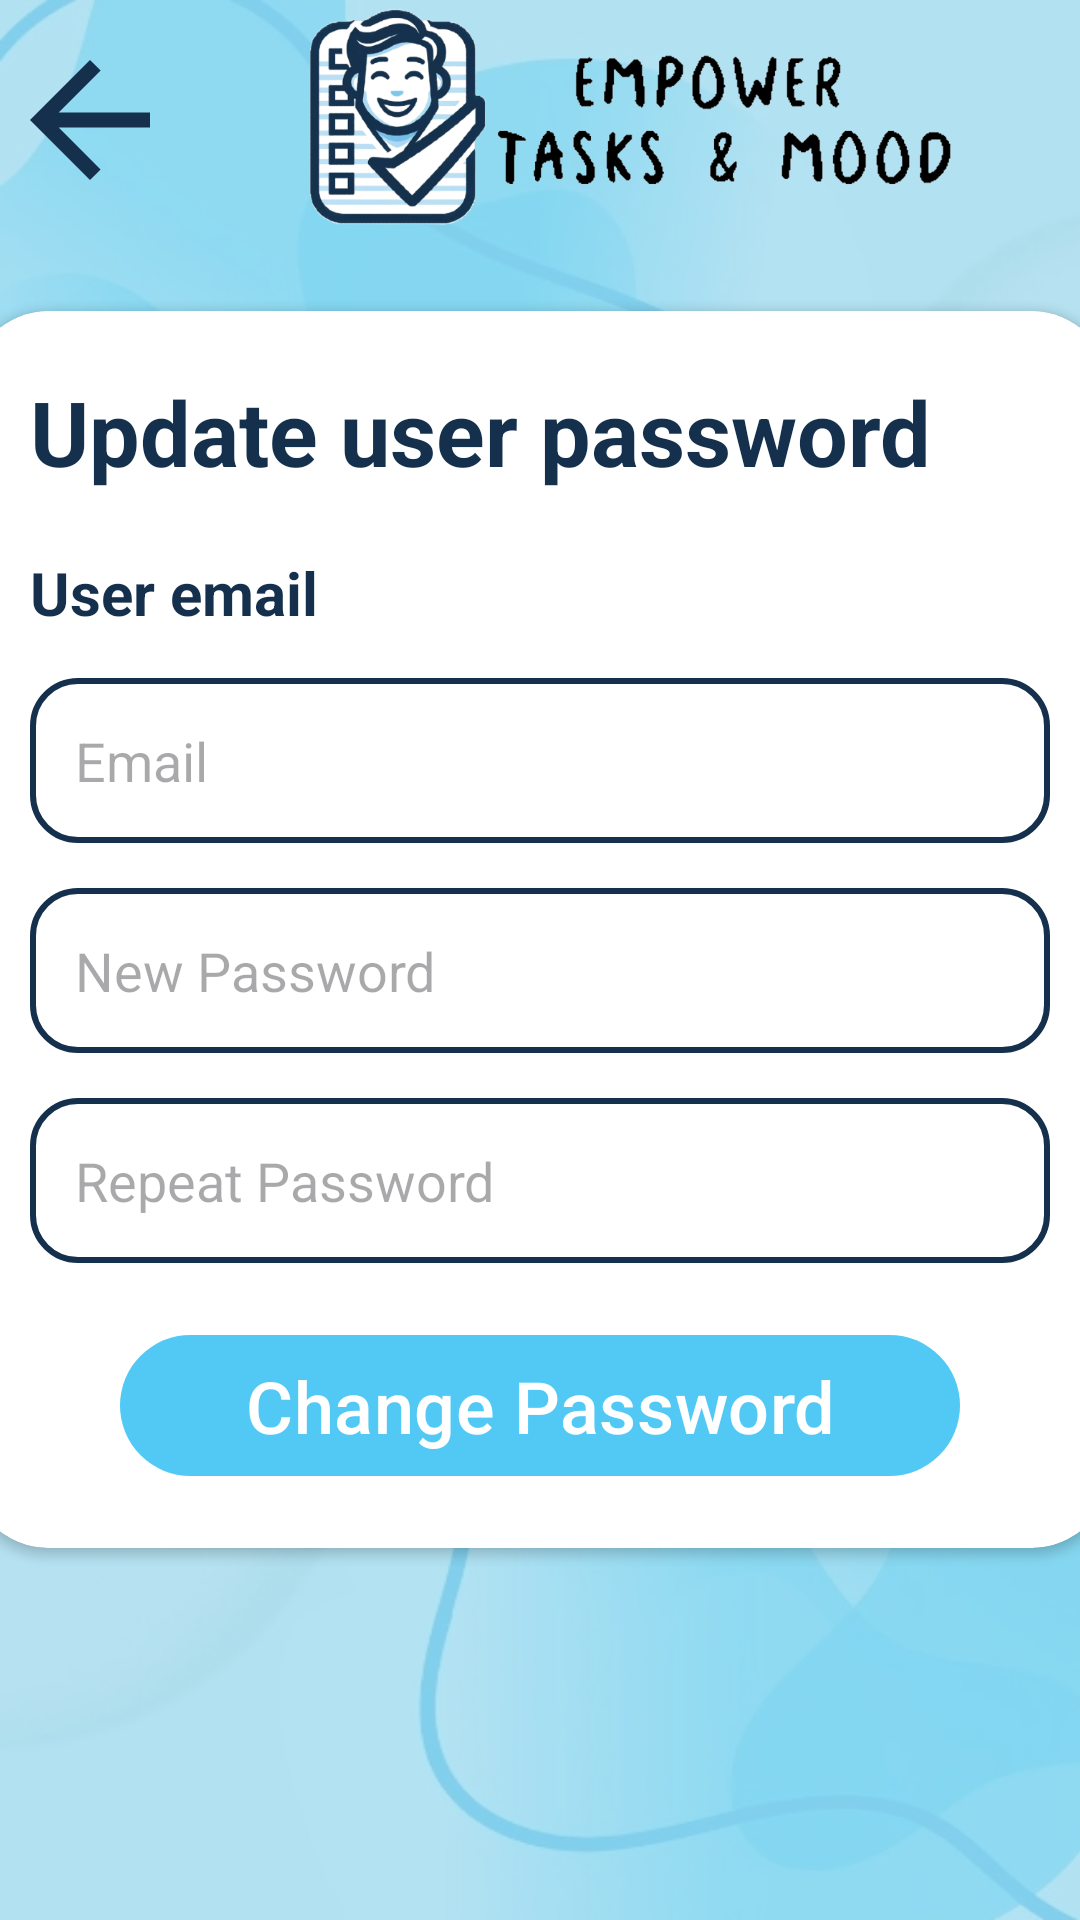

Screen size 1080 × 1920. Icon name, then its center in pixels as (x=x, y=y):
arrow back: (x=75, y=92)
